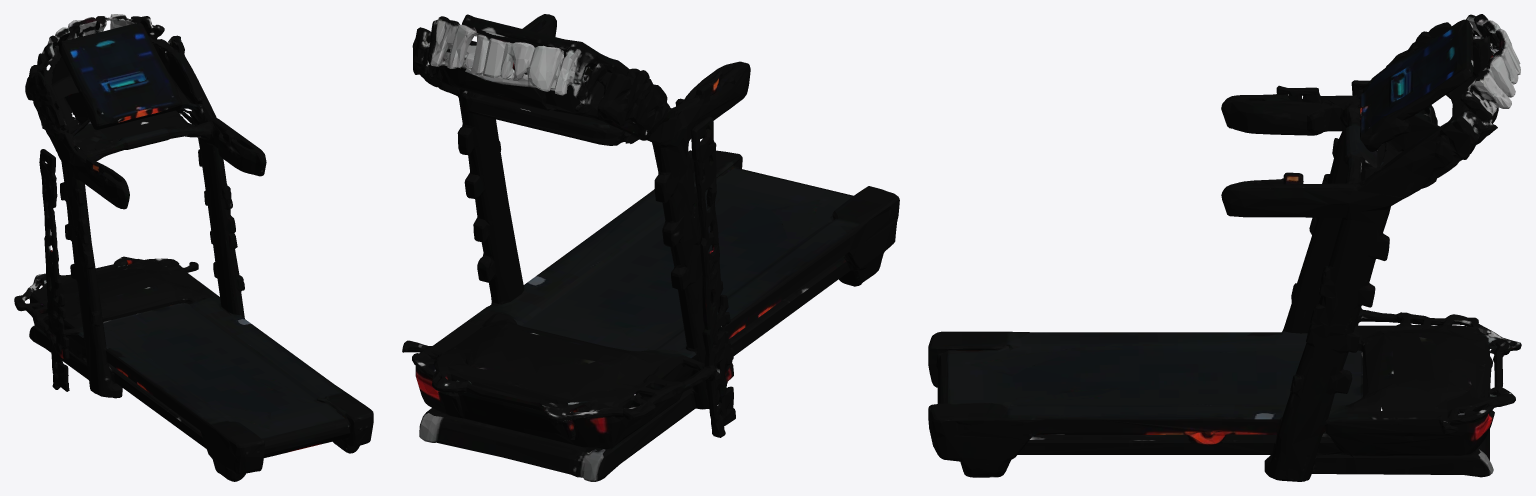
The model's file is k1-proform-carbon-tl.glb.
3 renders of one model, left to right at view 1: azimuth 30°, elevation 25°; view 2: azimuth 150°, elevation 25°; view 3: azimuth 270°, elevation 25°, orthographic. The views are drawn at different scales.
Parts seen in each view (by area): view 1: demo_textured.obj; view 2: demo_textured.obj; view 3: demo_textured.obj.
Part boxes in pixels (x1=…): demo_textured.obj: x1=14, y1=14, x2=373, y2=481; demo_textured.obj: x1=402, y1=14, x2=899, y2=481; demo_textured.obj: x1=928, y1=14, x2=1521, y2=481.
Bounding box in the file's own units: 0.9403 × 1.48 × 1.99.
1 material, 1 textured.
